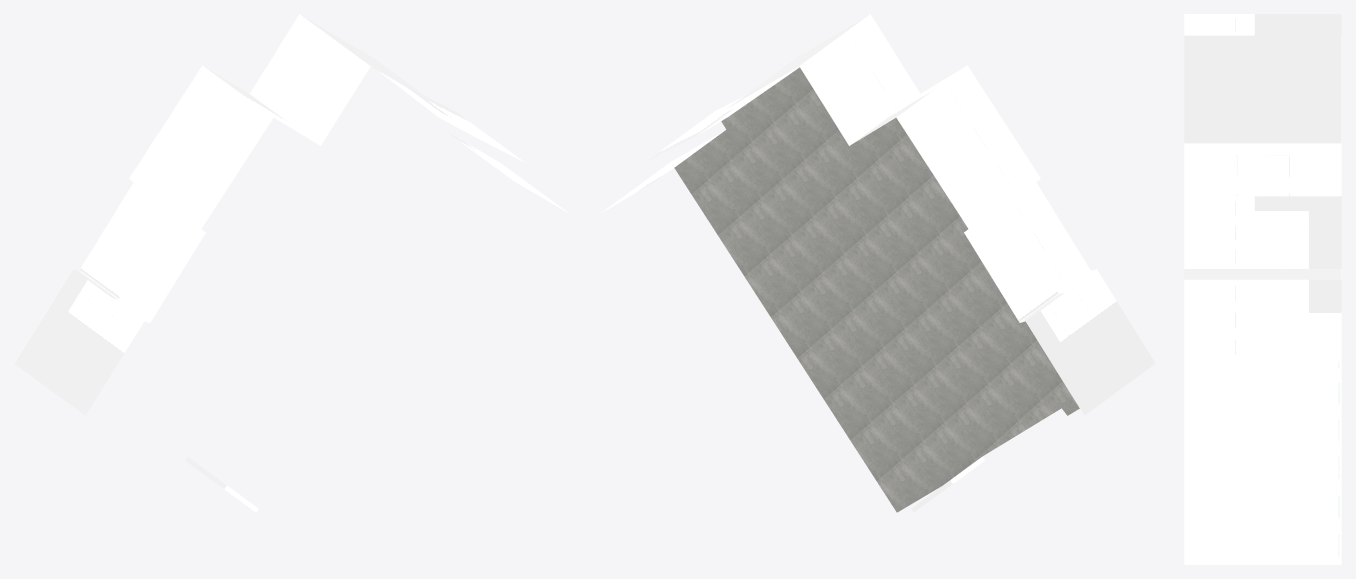
3 renders of one model, left to right at view 1: azimuth 30°, elevation 25°; view 2: azimuth 150°, elevation 25°; view 3: azimuth 270°, elevation 25°, orthographic. The views are drawn at different scales.
Visible parts, largest first — view 1: BuildingMaster_1976193526184463568200000000_0; view 2: BuildingMaster_1976193526184463568200000000_1, BuildingMaster_1976193526184463568200000000_0; view 3: BuildingMaster_1976193526184463568200000000_0.
Part boxes in pixels (x1,y1,x2,y2): BuildingMaster_1976193526184463568200000000_0: [14, 14, 568, 512]; BuildingMaster_1976193526184463568200000000_1: [674, 67, 1079, 512]; BuildingMaster_1976193526184463568200000000_0: [601, 14, 1155, 512]; BuildingMaster_1976193526184463568200000000_0: [1184, 14, 1341, 564].
Size of the model in its own units: 41.25 by 40 by 10.5.
